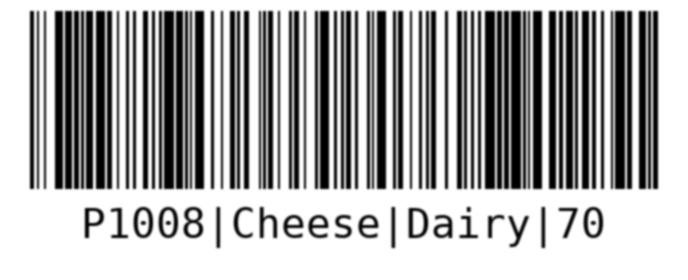milk: (18, 5, 666, 266)
